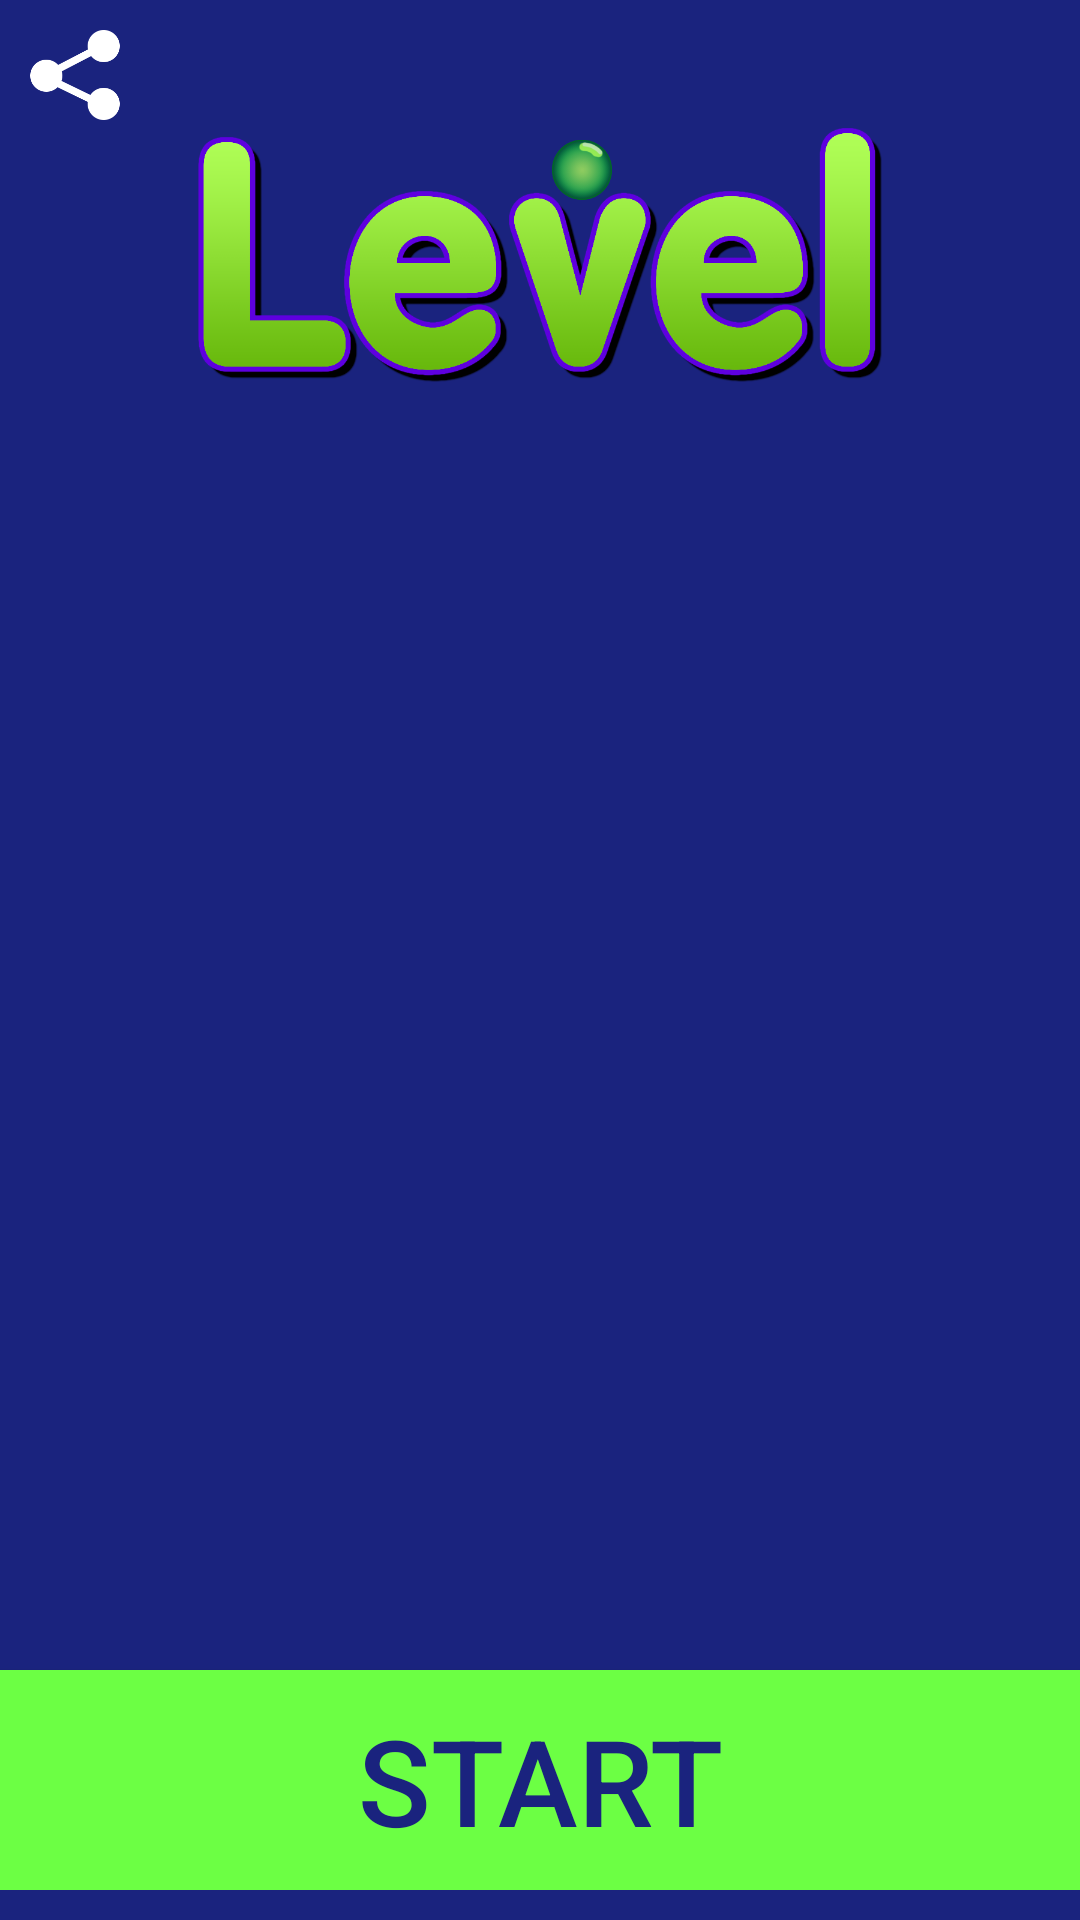

Where to tap for icons on this 1080x1920 app screen, as [x,y]:
share: [75,75]
